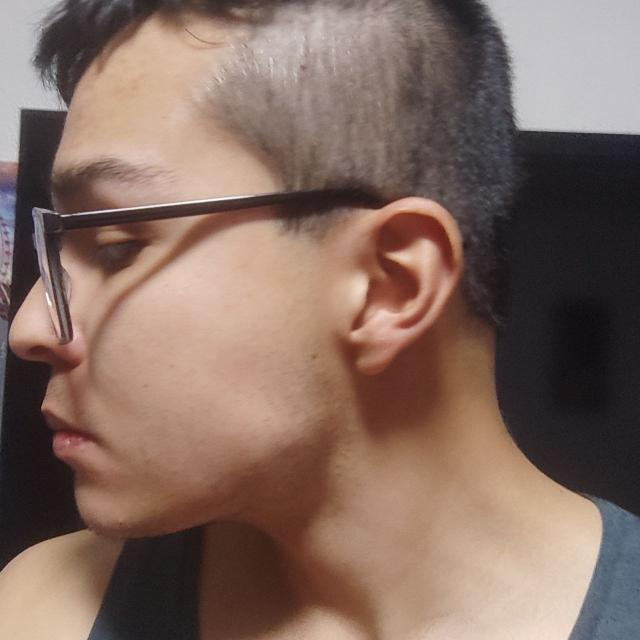ear: (342, 199, 462, 375)
